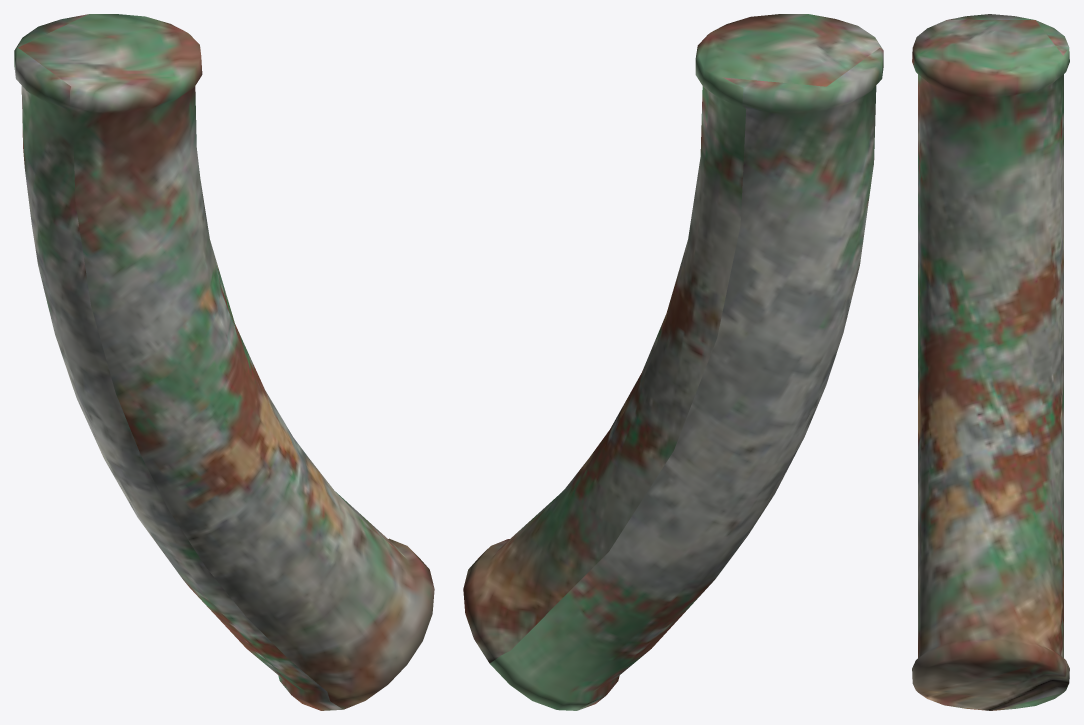
File: Pipe10-model.fbx
3 renders of one model, left to right at view 1: azimuth 30°, elevation 25°; view 2: azimuth 150°, elevation 25°; view 3: azimuth 270°, elevation 25°, orthographic. The views are drawn at different scales.
Parts seen in each view (by area): view 1: Cylinder16; view 2: Cylinder16; view 3: Cylinder16.
Boxes of the visible parts, x1,y1,x2,y2 form: Cylinder16: (14,14,434,710); Cylinder16: (463,14,883,710); Cylinder16: (912,14,1069,710).
Size of the model in its own units: 9.06 by 15.45 by 3.78.
Materials: 1 (1 with a texture image).
